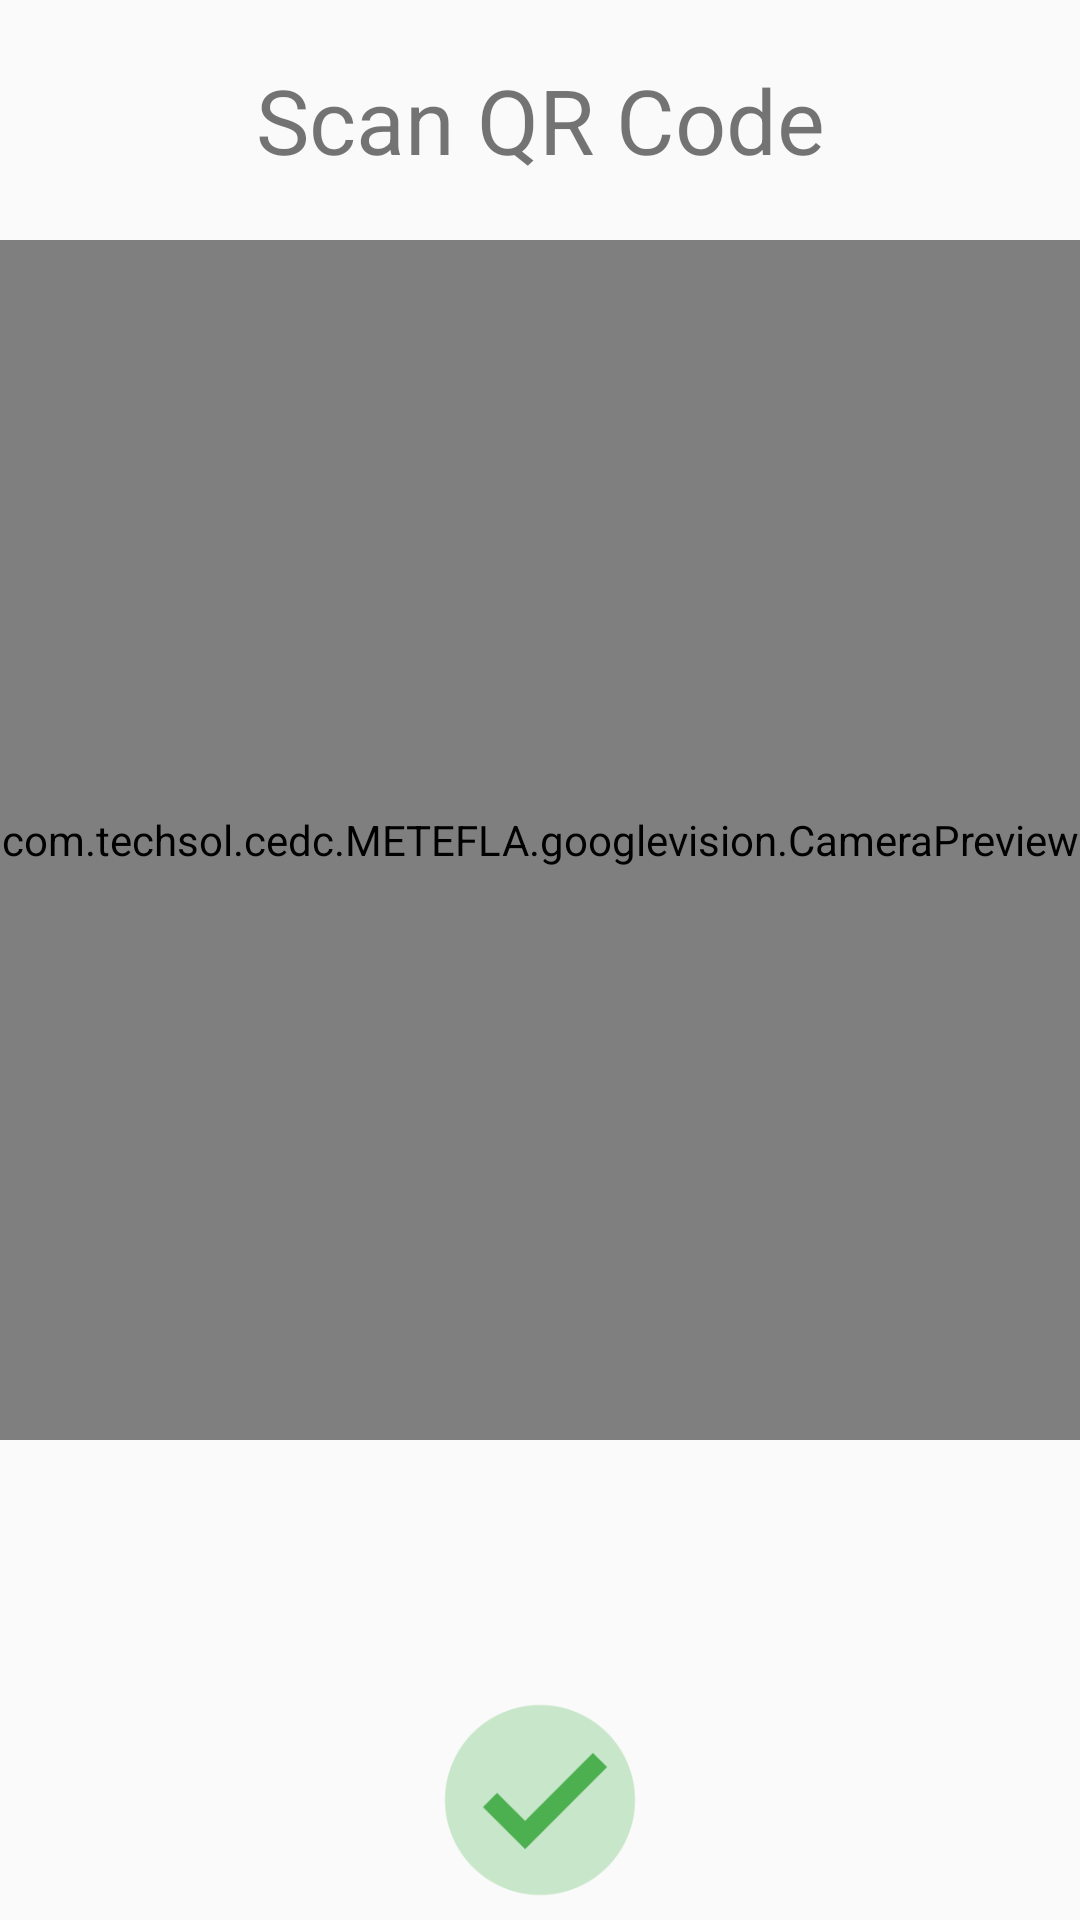

Locate icon controls on the screen. Image size 1080x1920, boxes as (x1, y1, x2, y2).
check: (445, 1705, 635, 1895)
